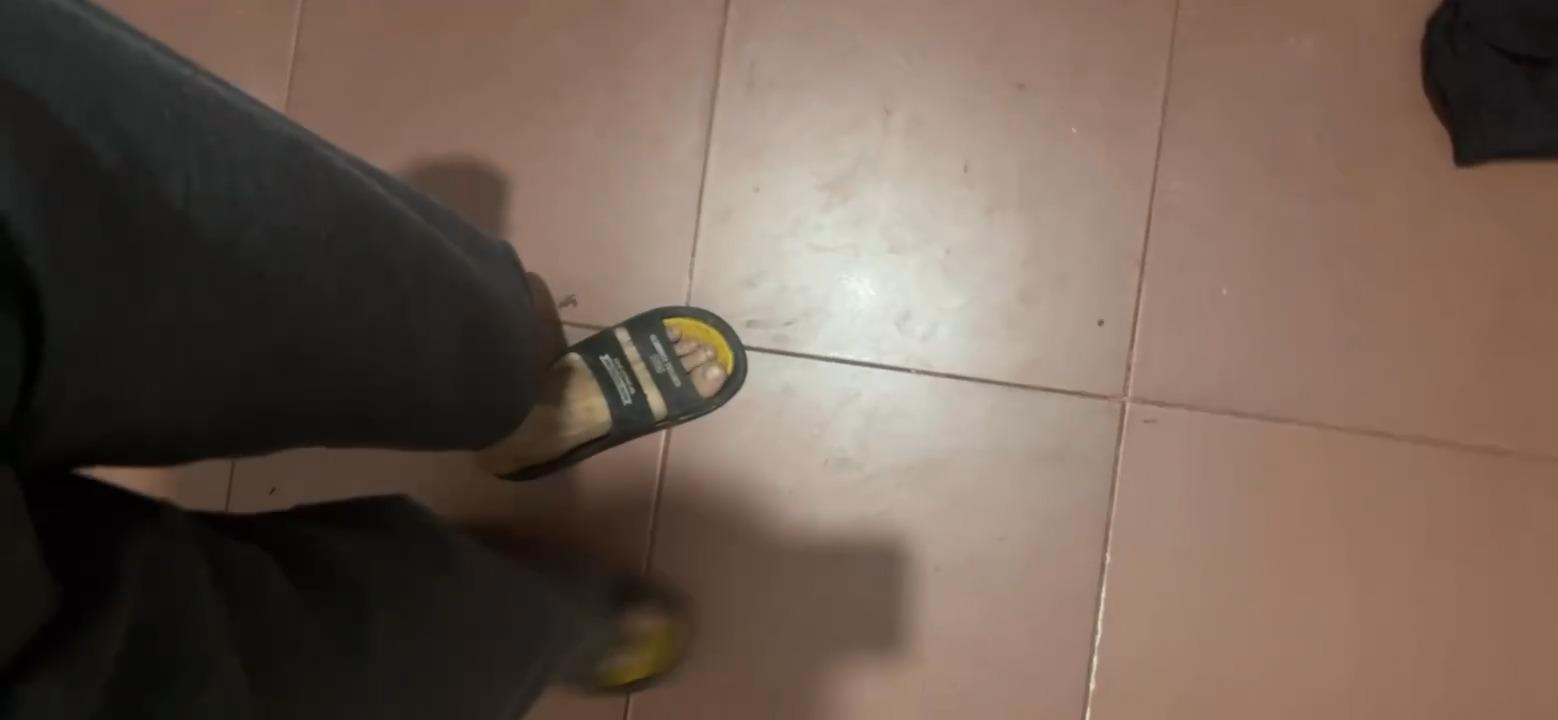no-boot: (471, 287, 735, 471), (531, 533, 692, 709)
